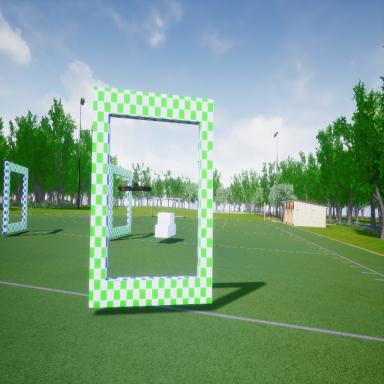gate: (88, 79, 216, 317), (106, 163, 134, 239), (3, 156, 28, 237)
